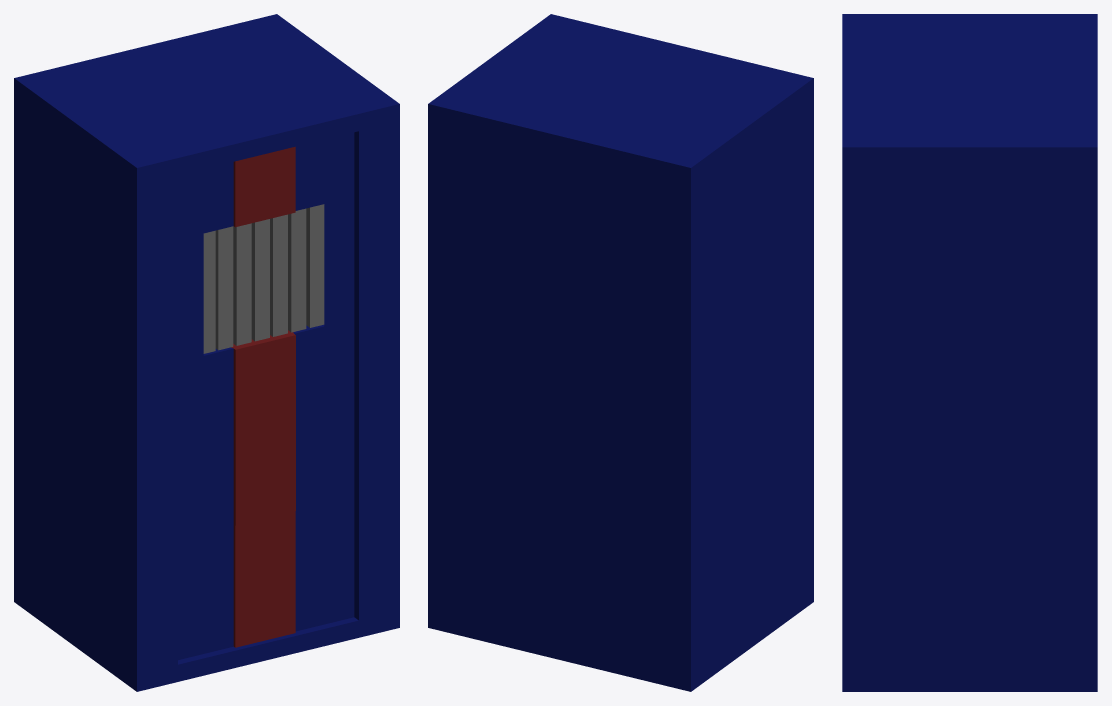
Rendered from Locker.fbx.
3 renders of one model, left to right at view 1: azimuth 30°, elevation 25°; view 2: azimuth 150°, elevation 25°; view 3: azimuth 270°, elevation 25°, orthographic. The views are drawn at different scales.
Parts seen in each view (by area): view 1: Cube.007, Cube.002, Cube.006, Cube.003, Cube.001; view 2: Cube.001, Cube.002, Cube.006, Cube.003, Cube.007; view 3: Cube.003, Cube.006, Cube.001, Cube.007, Cube.002.
Part boxes in pixels (x1,y1,x2,y2): Cube.007: (148,99,374,685); Cube.002: (14,72,161,691); Cube.006: (54,30,359,151); Cube.003: (252,14,399,633); Cube.001: (39,20,265,82); Cube.001: (453,99,679,685); Cube.002: (666,72,813,691); Cube.006: (468,30,773,151); Cube.003: (428,14,575,633); Cube.007: (562,20,788,82); Cube.003: (842,134,1097,691); Cube.006: (872,26,1067,134); Cube.001: (1067,26,1097,134); Cube.007: (842,26,872,134); Cube.002: (842,14,1097,26).
Bounding box in the file's own units: 420 × 800 × 340.
